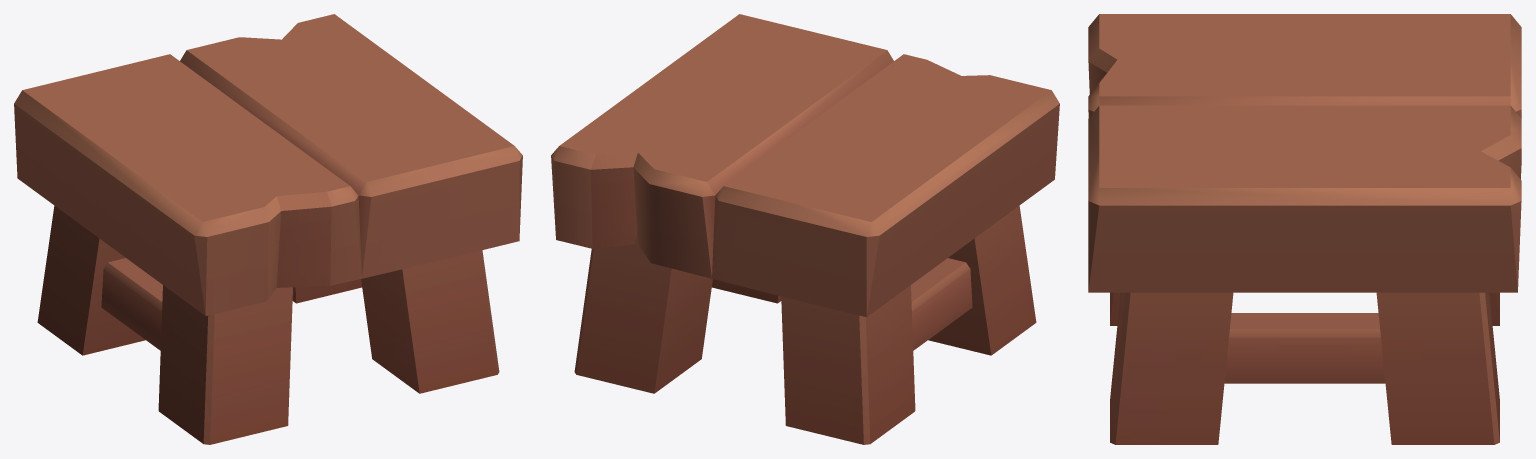
Rendered from stool.glb.
3 views of the same model, side by side, from view 1: azimuth 30°, elevation 25°; view 2: azimuth 150°, elevation 25°; view 3: azimuth 270°, elevation 25° (orthographic). The views are drawn at different scales.
Parts seen in each view (by area): view 1: stool; view 2: stool; view 3: stool.
Boxes of the visible parts, box(x1,y1,x2,y2) form: stool: box(14, 14, 522, 444); stool: box(551, 14, 1059, 444); stool: box(1088, 14, 1521, 444).
Size of the model in its own units: 0.75 by 0.5 by 0.75.
1 material, 1 textured.
